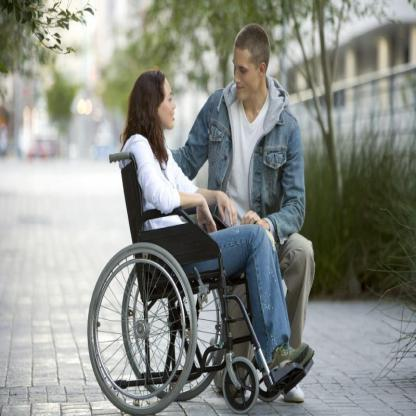wheelchair: (89, 71, 314, 408)
